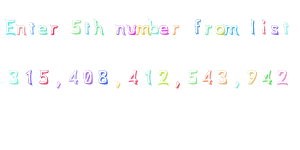,: (54, 80, 64, 90), (232, 80, 242, 90), (113, 79, 122, 90), (173, 79, 182, 89)
0: (82, 68, 94, 85)
1: (143, 69, 153, 86), (25, 69, 34, 85)
2: (157, 69, 170, 85), (277, 68, 289, 85)
3: (216, 69, 228, 86), (7, 69, 19, 85)
4: (67, 68, 80, 84), (201, 68, 213, 85), (127, 68, 139, 84), (261, 69, 273, 85)
5: (38, 69, 50, 85), (70, 18, 81, 35), (187, 68, 198, 85)
8: (97, 68, 108, 85)
9: (246, 67, 257, 85)
E: (3, 17, 17, 36)
b: (148, 18, 159, 34)
e: (37, 24, 48, 34), (159, 24, 169, 34)
f: (192, 16, 201, 34)
h: (93, 17, 104, 35)
i: (261, 18, 266, 36)
l: (250, 18, 256, 35)
m: (224, 23, 240, 36), (135, 24, 150, 34)
n: (114, 24, 125, 35), (16, 24, 26, 35)
o: (214, 24, 226, 35)
r: (48, 24, 58, 35), (171, 24, 180, 35), (204, 23, 212, 35)
s: (270, 23, 279, 35)
t: (28, 21, 36, 35), (83, 21, 91, 35), (282, 20, 289, 35)
u: (126, 24, 137, 35)
